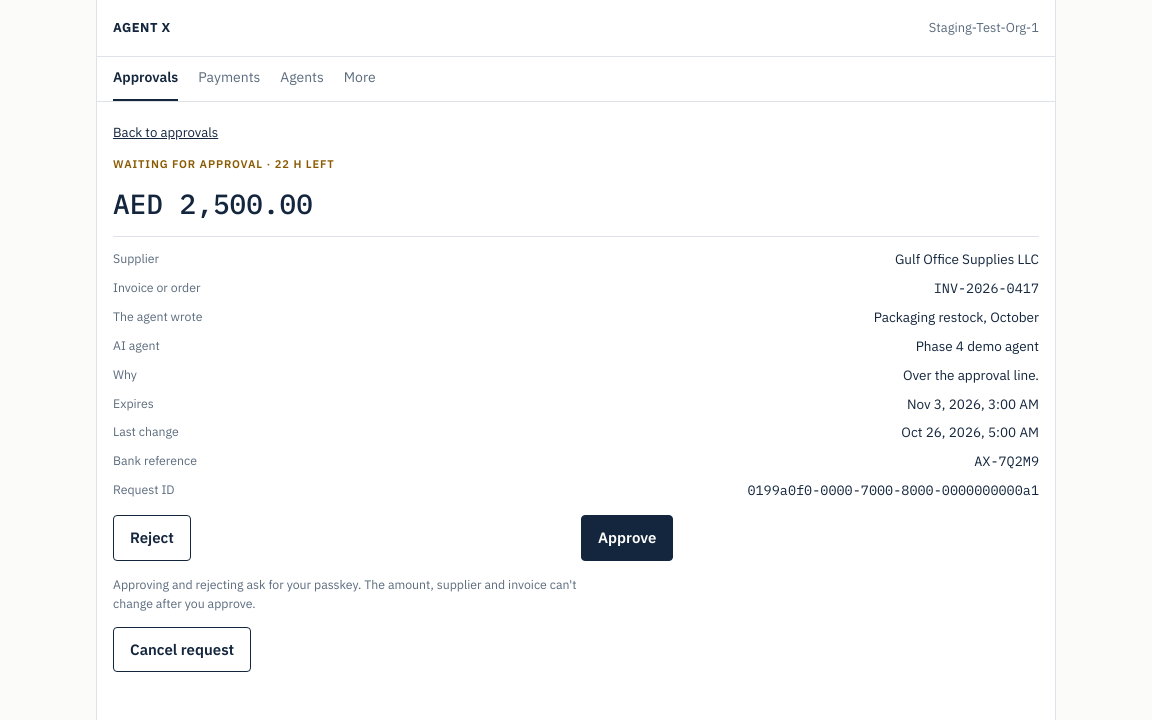
one request’s page (6B1) › says a refused or failed approve plainly: REQUEST_NOT_WAITING
Click the button "Approve".
click(627, 538)  # box left=581, top=515, right=673, bottom=561
(page scrolled)
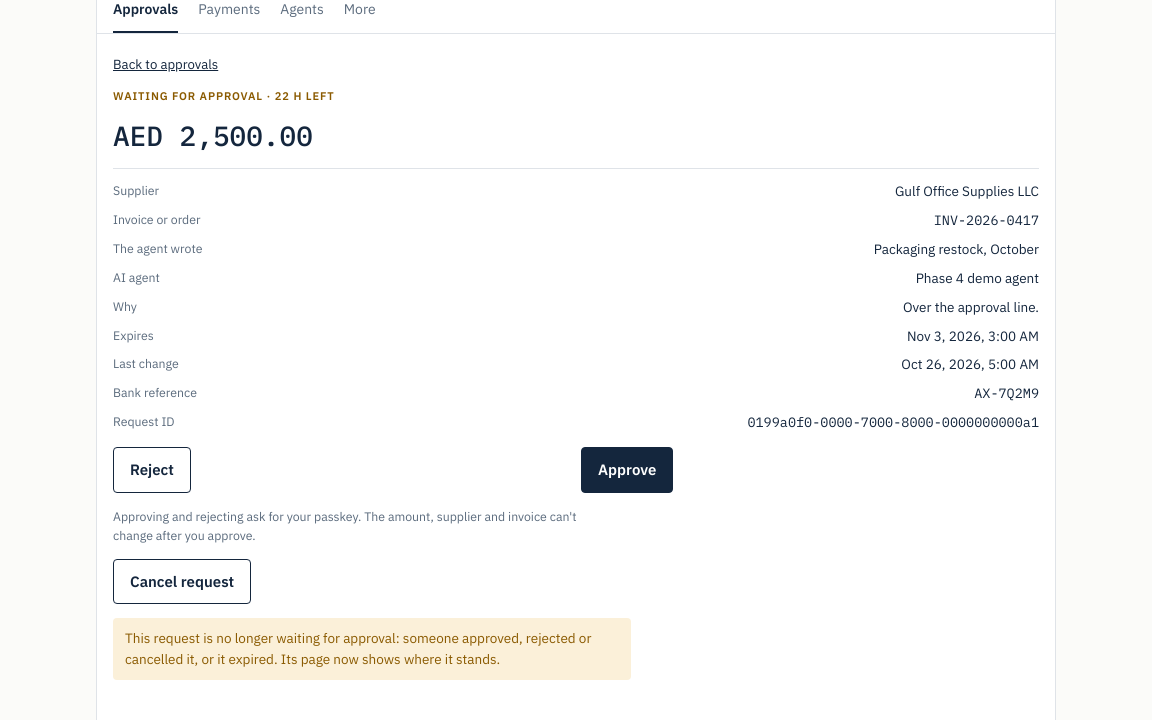
Check: the text "no longer waiting for approval" is shown, box left=125, top=629, right=591, bottom=668
